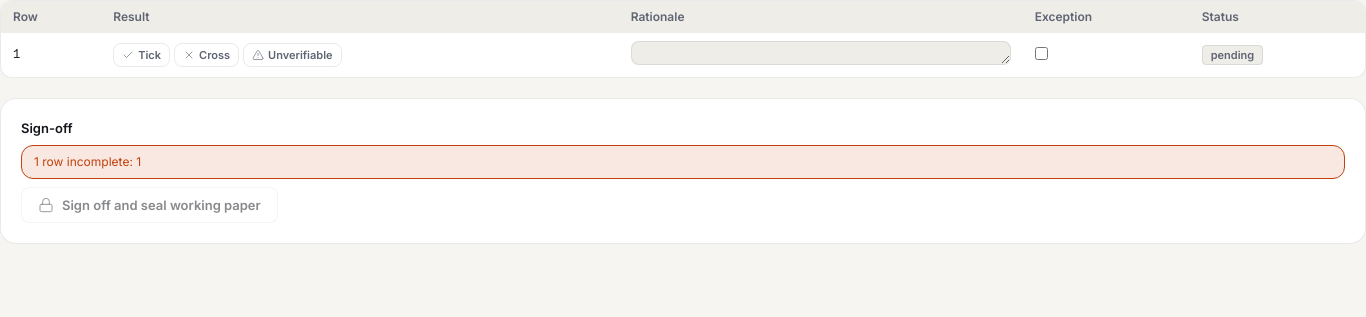
Test: Phase 4 UI panels (4I) › row testing: a cross needs a rationale before it is recorded
Click the button with test id "rowtesting-cross-1". click: (206,55)
box: [174,43,239,67]
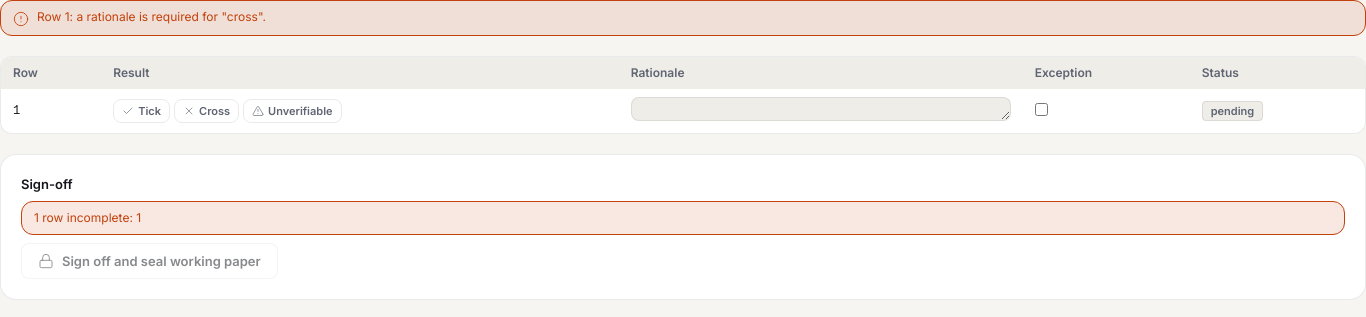
Expected: the message "Row 1: a rationale is required for \"cross\"." is shown, [0,0,1365,36]
